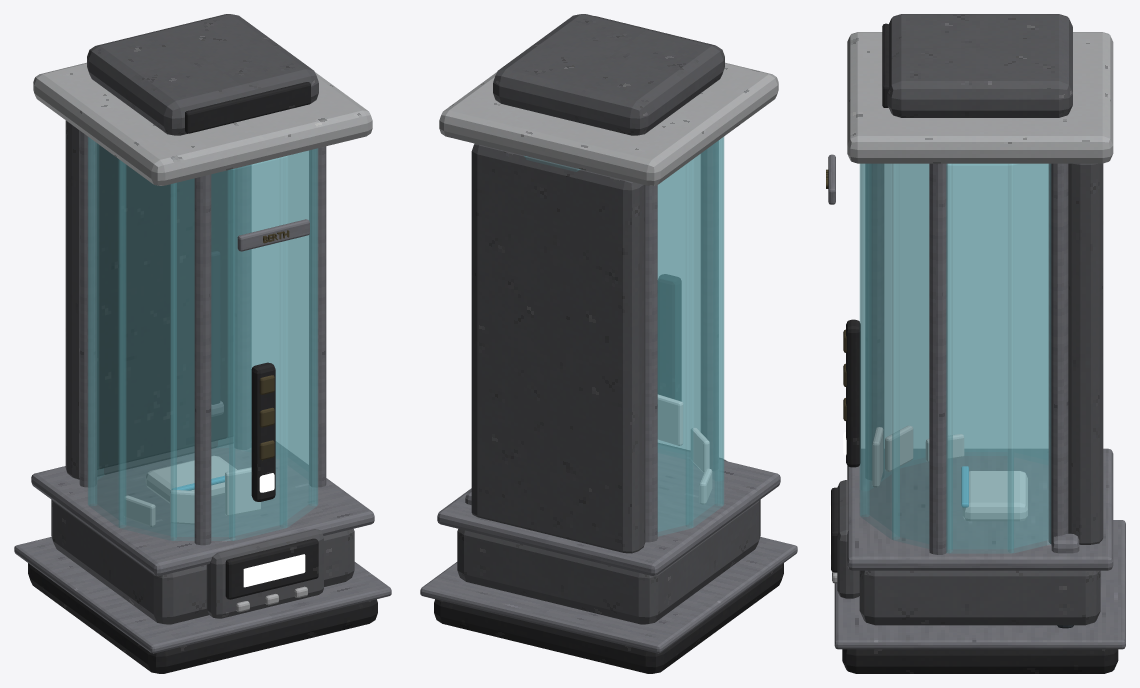
File: decor_med_cryo_pod.glb
3 views of the same model, side by side, from view 1: azimuth 30°, elevation 25°; view 2: azimuth 150°, elevation 25°; view 3: azimuth 270°, elevation 25° (orthographic). The views are drawn at different scales.
Visible parts, largest first — view 1: DEC_MedCryoPod__Shell_Back_Trim, DEC_MedCryoPod__Glass_8, DEC_MedCryoPod__Collar_Low, DEC_MedCryoPod__Glass_10, DEC_MedCryoPod__Glass_9, DEC_MedCryoPod__Cap, DEC_MedCryoPod__Head_Unit, DEC_MedCryoPod__Glass_7, DEC_MedCryoPod__Glass_11, DEC_MedCryoPod__Plinth_Trim, DEC_MedCryoPod__Machinery, DEC_MedCryoPod__Plinth (+20 smaller); view 2: DEC_MedCryoPod__Shell_Back, DEC_MedCryoPod__Head_Unit, DEC_MedCryoPod__Cap, DEC_MedCryoPod__Machinery, DEC_MedCryoPod__Glass_7, DEC_MedCryoPod__Glass_6, DEC_MedCryoPod__Collar_Low, DEC_MedCryoPod__Plinth_Trim, DEC_MedCryoPod__Plinth, DEC_MedCryoPod__Frame_Rib_3, DEC_MedCryoPod__Glass_10, DEC_MedCryoPod__Frame_Rib_2 (+5 smaller); view 3: DEC_MedCryoPod__Glass_1, DEC_MedCryoPod__Collar_Low, DEC_MedCryoPod__Head_Unit, DEC_MedCryoPod__Cap, DEC_MedCryoPod__Glass_12, DEC_MedCryoPod__Glass_2, DEC_MedCryoPod__Glass_7, DEC_MedCryoPod__Glass_11, DEC_MedCryoPod__Shell_Back, DEC_MedCryoPod__Machinery, DEC_MedCryoPod__Glass_6, DEC_MedCryoPod__Plinth_Trim (+16 smaller).
Part boxes in pixels (bbox=[...]): DEC_MedCryoPod__Shell_Back_Trim: bbox=[97, 143, 233, 469]; DEC_MedCryoPod__Glass_8: bbox=[119, 160, 176, 540]; DEC_MedCryoPod__Collar_Low: bbox=[31, 441, 374, 575]; DEC_MedCryoPod__Glass_10: bbox=[229, 156, 286, 540]; DEC_MedCryoPod__Glass_9: bbox=[171, 169, 234, 540]; DEC_MedCryoPod__Cap: bbox=[33, 62, 372, 185]; DEC_MedCryoPod__Head_Unit: bbox=[87, 14, 318, 135]; DEC_MedCryoPod__Glass_7: bbox=[88, 137, 125, 527]; DEC_MedCryoPod__Glass_11: bbox=[280, 148, 317, 527]; DEC_MedCryoPod__Plinth_Trim: bbox=[14, 537, 391, 653]; DEC_MedCryoPod__Machinery: bbox=[51, 499, 354, 624]; DEC_MedCryoPod__Plinth: bbox=[28, 563, 377, 673]; DEC_MedCryoPod__Shell_Back: bbox=[471, 143, 645, 553]; DEC_MedCryoPod__Head_Unit: bbox=[493, 14, 724, 135]; DEC_MedCryoPod__Cap: bbox=[439, 62, 778, 185]; DEC_MedCryoPod__Machinery: bbox=[457, 499, 760, 624]; DEC_MedCryoPod__Glass_7: bbox=[686, 137, 723, 527]; DEC_MedCryoPod__Glass_6: bbox=[657, 160, 692, 536]; DEC_MedCryoPod__Collar_Low: bbox=[437, 445, 780, 575]; DEC_MedCryoPod__Plinth_Trim: bbox=[420, 537, 797, 653]; DEC_MedCryoPod__Plinth: bbox=[434, 563, 783, 673]; DEC_MedCryoPod__Frame_Rib_3: bbox=[701, 141, 718, 470]; DEC_MedCryoPod__Glass_10: bbox=[658, 165, 685, 454]; DEC_MedCryoPod__Frame_Rib_2: bbox=[645, 185, 657, 542]; DEC_MedCryoPod__Glass_1: bbox=[947, 163, 1013, 553]; DEC_MedCryoPod__Collar_Low: bbox=[847, 448, 1113, 570]; DEC_MedCryoPod__Head_Unit: bbox=[887, 14, 1072, 117]; DEC_MedCryoPod__Cap: bbox=[847, 32, 1113, 163]; DEC_MedCryoPod__Glass_12: bbox=[892, 163, 952, 552]; DEC_MedCryoPod__Glass_2: bbox=[1008, 163, 1050, 552]; DEC_MedCryoPod__Glass_7: bbox=[953, 164, 1007, 451]; DEC_MedCryoPod__Glass_11: bbox=[860, 163, 899, 539]; DEC_MedCryoPod__Shell_Back: bbox=[1068, 163, 1103, 544]; DEC_MedCryoPod__Machinery: bbox=[859, 570, 1100, 625]; DEC_MedCryoPod__Glass_6: bbox=[1014, 164, 1048, 460]; DEC_MedCryoPod__Plinth_Trim: bbox=[834, 520, 1125, 649].
Bounding box in the file's own units: 1.16 × 2.52 × 1.19.
Materials: 10 (4 with a texture image).
